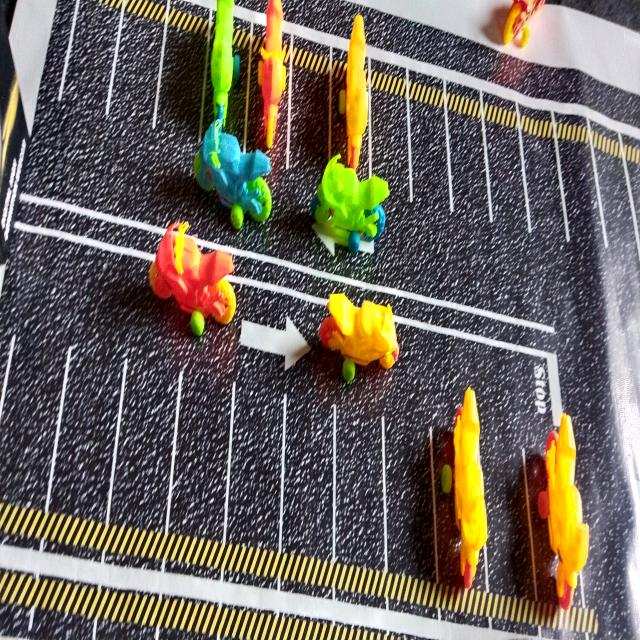bikes: (150, 222, 236, 336), (194, 119, 272, 229), (314, 154, 389, 253), (320, 294, 399, 381)
occupied: (527, 413, 589, 610), (436, 388, 487, 589), (200, 0, 252, 148), (249, 0, 292, 169), (330, 14, 371, 176)
others: (0, 12, 29, 266)
slots: (49, 333, 127, 520), (110, 350, 178, 527), (0, 330, 67, 504), (169, 368, 233, 538), (282, 393, 336, 559), (227, 386, 281, 549), (336, 405, 384, 569), (483, 450, 534, 601), (386, 428, 435, 581), (61, 2, 120, 117), (109, 15, 163, 136), (157, 28, 206, 142), (410, 101, 451, 235), (558, 140, 607, 250), (595, 150, 640, 269), (521, 131, 565, 242), (485, 120, 527, 234), (371, 91, 409, 210), (448, 109, 488, 220), (289, 65, 330, 170)
